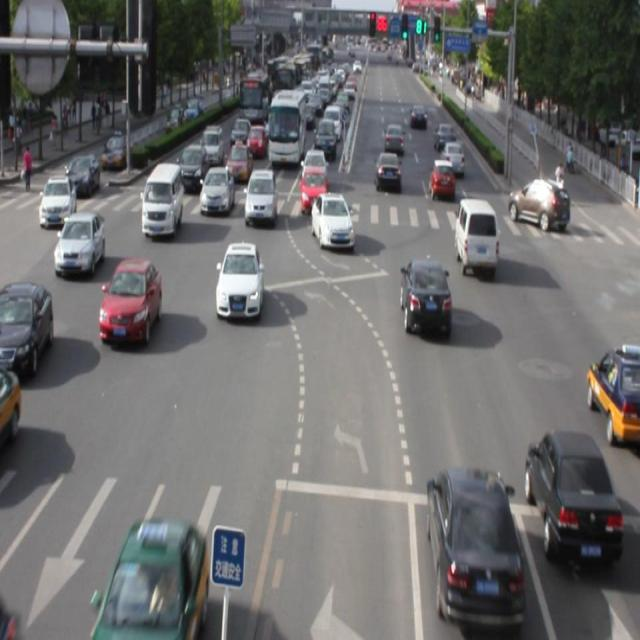car: (428, 466, 521, 620), (97, 516, 209, 640), (526, 432, 621, 566), (100, 256, 162, 340), (585, 344, 640, 438), (400, 255, 451, 341), (216, 240, 263, 318), (311, 192, 353, 252), (199, 164, 235, 218), (244, 168, 278, 225)
truck: (454, 196, 498, 272), (141, 160, 182, 233)
